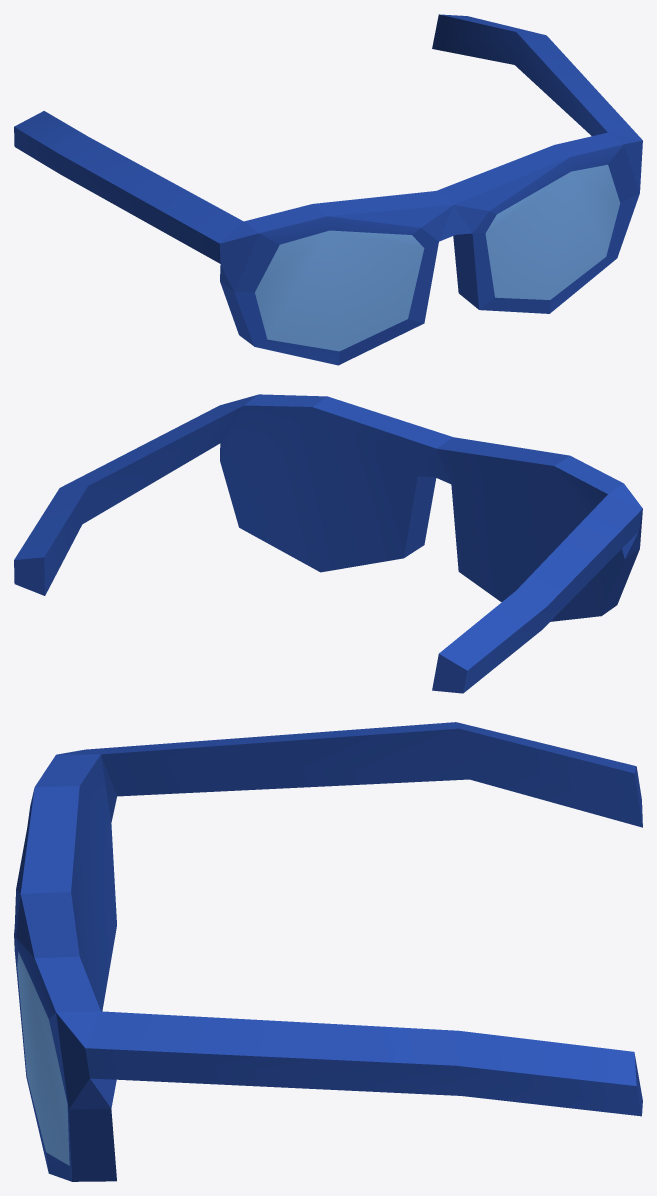
File: Glasses_03.fbx
3 renders of one model, top to bottom at view 1: azimuth 30°, elevation 25°; view 2: azimuth 150°, elevation 25°; view 3: azimuth 270°, elevation 25°, orthographic. The views are drawn at different scales.
Parts seen in each view (by area): view 1: Glasses_03; view 2: Glasses_03; view 3: Glasses_03.
Boxes of the visible parts, x1=… form: Glasses_03: x1=14, y1=14, x2=642, y2=365; Glasses_03: x1=14, y1=394, x2=642, y2=693; Glasses_03: x1=14, y1=722, x2=642, y2=1181.
Bounding box in the file's own units: 76.27 × 23.56 × 58.99.
